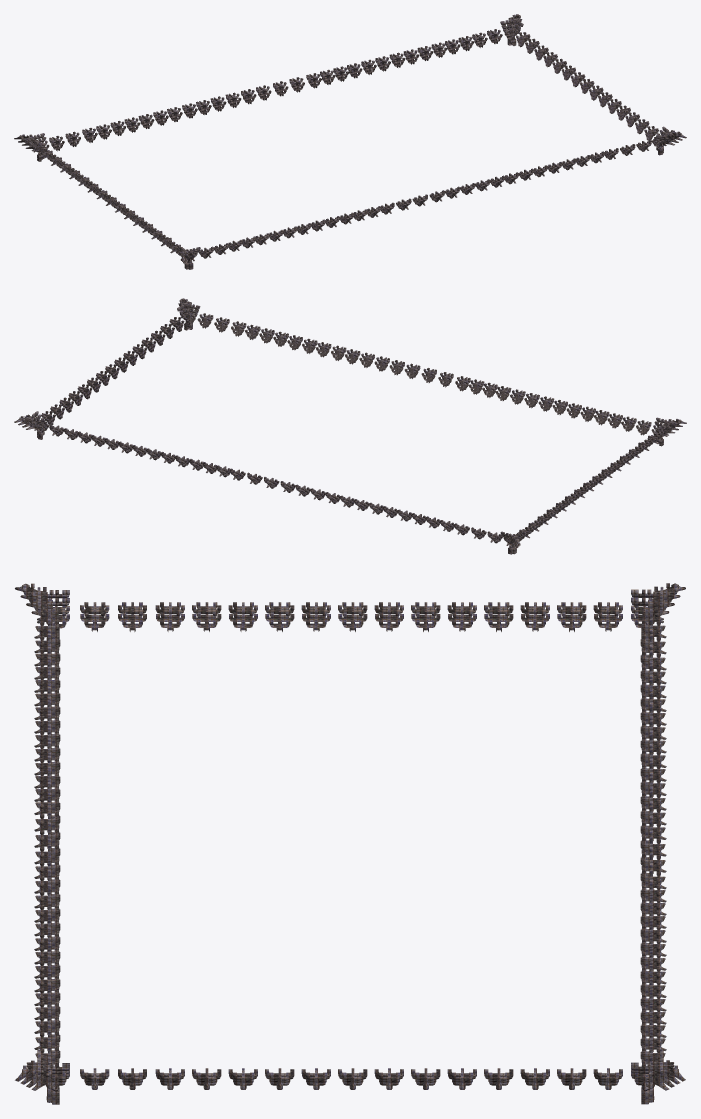
Rendered from 下榫卯.obj.
3 renders of one model, top to bottom at view 1: azimuth 30°, elevation 25°; view 2: azimuth 150°, elevation 25°; view 3: azimuth 270°, elevation 25°, orthographic. The views are drawn at different scales.
Parts seen in each view (by area): view 1: Obj3d66_17342430_44_912; view 2: Obj3d66_17342430_44_912; view 3: Obj3d66_17342430_44_912.
Boxes of the visible parts, <box> form: Obj3d66_17342430_44_912: <box>14,14,686,269</box>; Obj3d66_17342430_44_912: <box>14,298,686,554</box>; Obj3d66_17342430_44_912: <box>15,583,685,1104</box>.
Size of the model in its own units: 2604 by 111 by 1495.
1 material, 1 textured.
